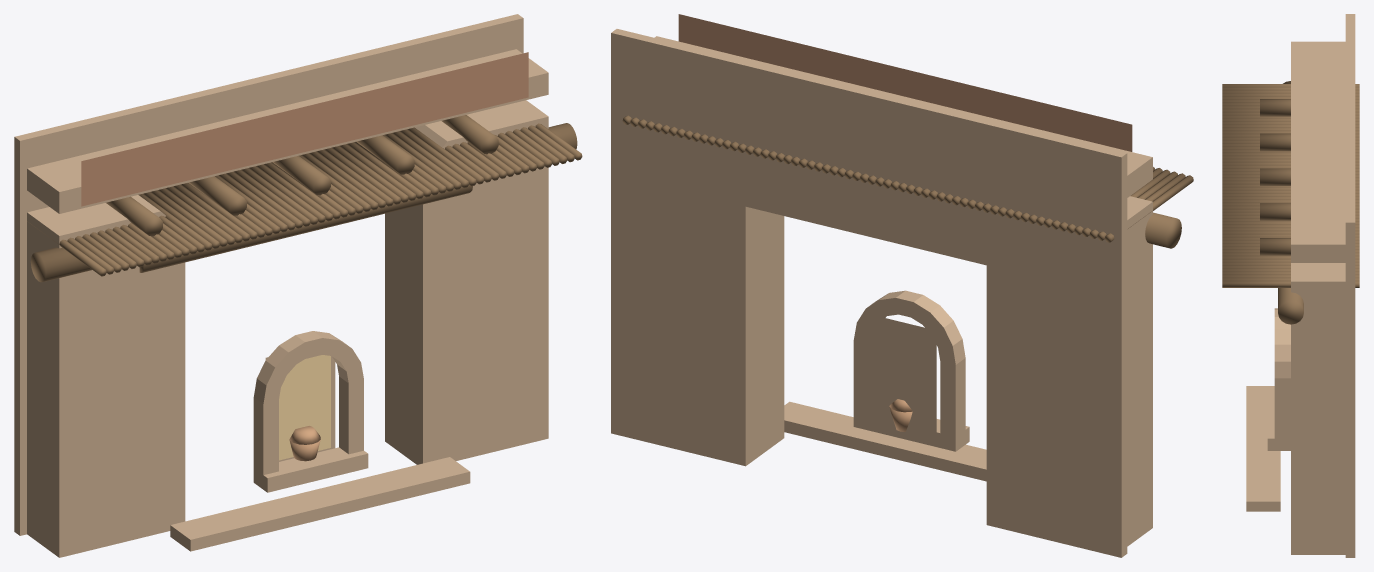
The model's file is adobe.glb.
3 renders of one model, left to right at view 1: azimuth 30°, elevation 25°; view 2: azimuth 150°, elevation 25°; view 3: azimuth 270°, elevation 25°, orthographic. The views are drawn at different scales.
Parts seen in each view (by area): view 1: Adobe_jambL, Adobe_jambR, Wood_latilla, Paint_band, Adobe_backL, Adobe_step, Adobe_backHdr, Adobe_parapet, Adobe_backR, Glow_nicheback, Adobe_nichearch, Adobe_nichesill (+9 smaller); view 2: Adobe_backL, Adobe_backR, Adobe_backHdr, Paint_band, Adobe_jambL, Adobe_jambR, Adobe_nicheback, Wood_latilla, Adobe_step, Adobe_nichearch, Adobe_parapet, Adobe_nicheL (+3 smaller); view 3: Adobe_jambR, Wood_latilla, Adobe_parapet, Adobe_backR, Adobe_step, Adobe_nicheR, Adobe_backHdr, Adobe_nichearch, Wood_viga, Adobe_backL, Wood_vigaend.001, Adobe_nichesill (+4 smaller).
Boxes of the visible parts, x1,y1,x2,y2 form: Adobe_jambL: (27, 195, 185, 557); Adobe_jambR: (390, 100, 548, 464); Wood_latilla: (27, 123, 582, 276); Paint_band: (81, 52, 528, 206); Adobe_backL: (14, 104, 152, 535); Adobe_step: (170, 457, 470, 551); Adobe_backHdr: (147, 46, 390, 137); Adobe_parapet: (27, 49, 548, 213); Adobe_backR: (385, 14, 523, 445); Glow_nicheback: (279, 355, 330, 460); Adobe_nichearch: (254, 331, 363, 404); Adobe_nichesill: (253, 447, 368, 492); Adobe_backL: (986, 120, 1127, 557); Adobe_backR: (611, 29, 751, 466); Adobe_backHdr: (745, 61, 991, 265); Paint_band: (678, 14, 1132, 151); Adobe_jambL: (1127, 196, 1152, 546); Adobe_jambR: (751, 208, 784, 461); Adobe_nicheback: (865, 313, 936, 445); Wood_latilla: (622, 115, 1193, 242); Adobe_step: (784, 401, 986, 481); Adobe_nichearch: (854, 290, 965, 364); Adobe_parapet: (654, 36, 1152, 197); Adobe_nicheL: (940, 358, 965, 442); Adobe_jambR: (1291, 263, 1345, 554); Wood_latilla: (1222, 84, 1359, 287); Adobe_parapet: (1291, 41, 1345, 262); Adobe_backR: (1345, 167, 1355, 557); Adobe_step: (1246, 386, 1280, 511); Adobe_nicheR: (1274, 378, 1290, 443); Adobe_backHdr: (1345, 69, 1355, 167); Adobe_nichearch: (1274, 308, 1290, 378); Wood_viga: (1278, 81, 1303, 324); Adobe_backL: (1345, 14, 1355, 68); Wood_vigaend.001: (1260, 133, 1290, 151); Adobe_nichesill: (1267, 397, 1290, 450).
Size of the model in its own units: 7.6 by 5.4 by 2.
